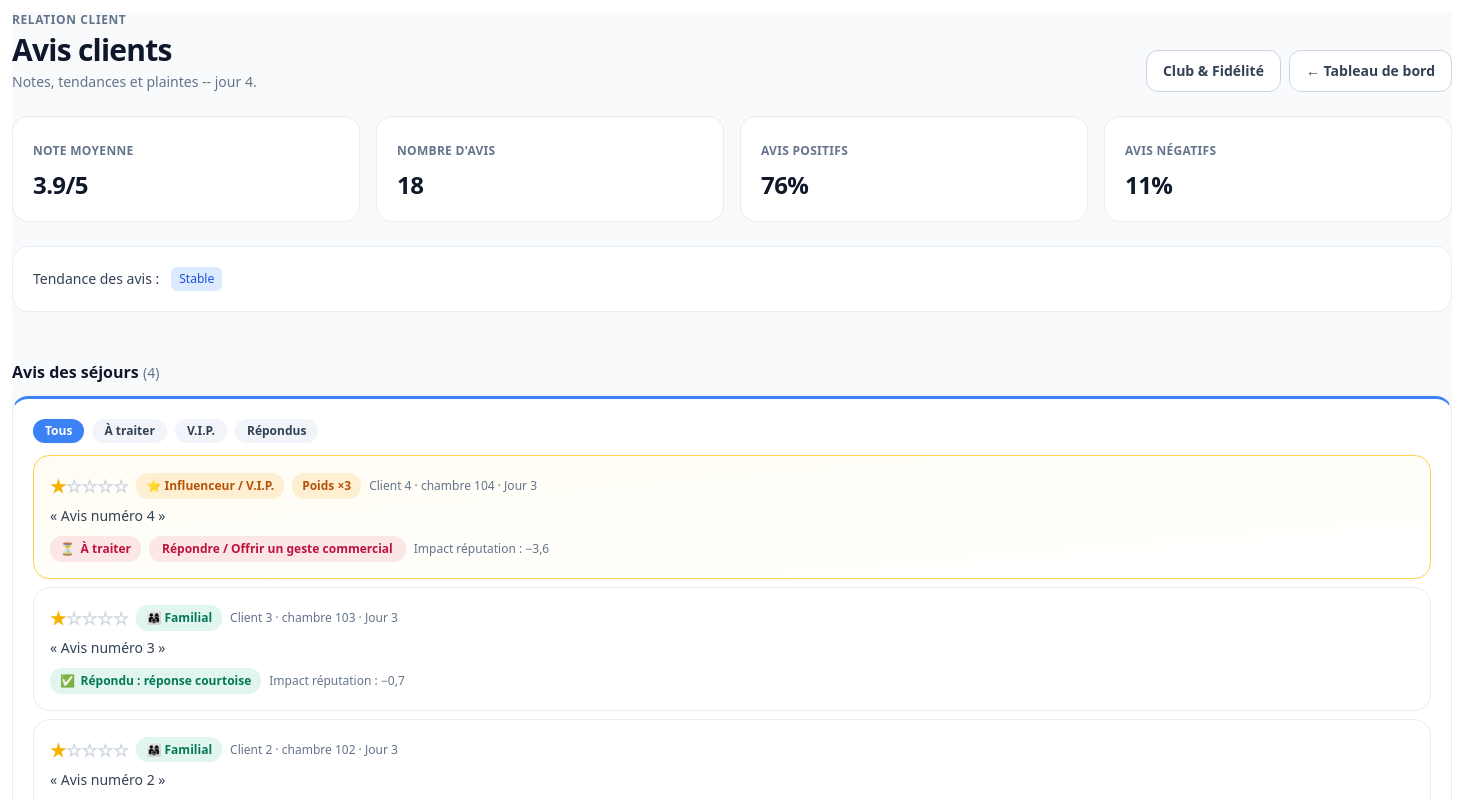
Scenario: Clients / Avis: the reviews of the stays › filters: to do (bad and unanswered), V.I.P., answered
Click the button "À traiter" at point(130, 431), box [92, 419, 167, 443]
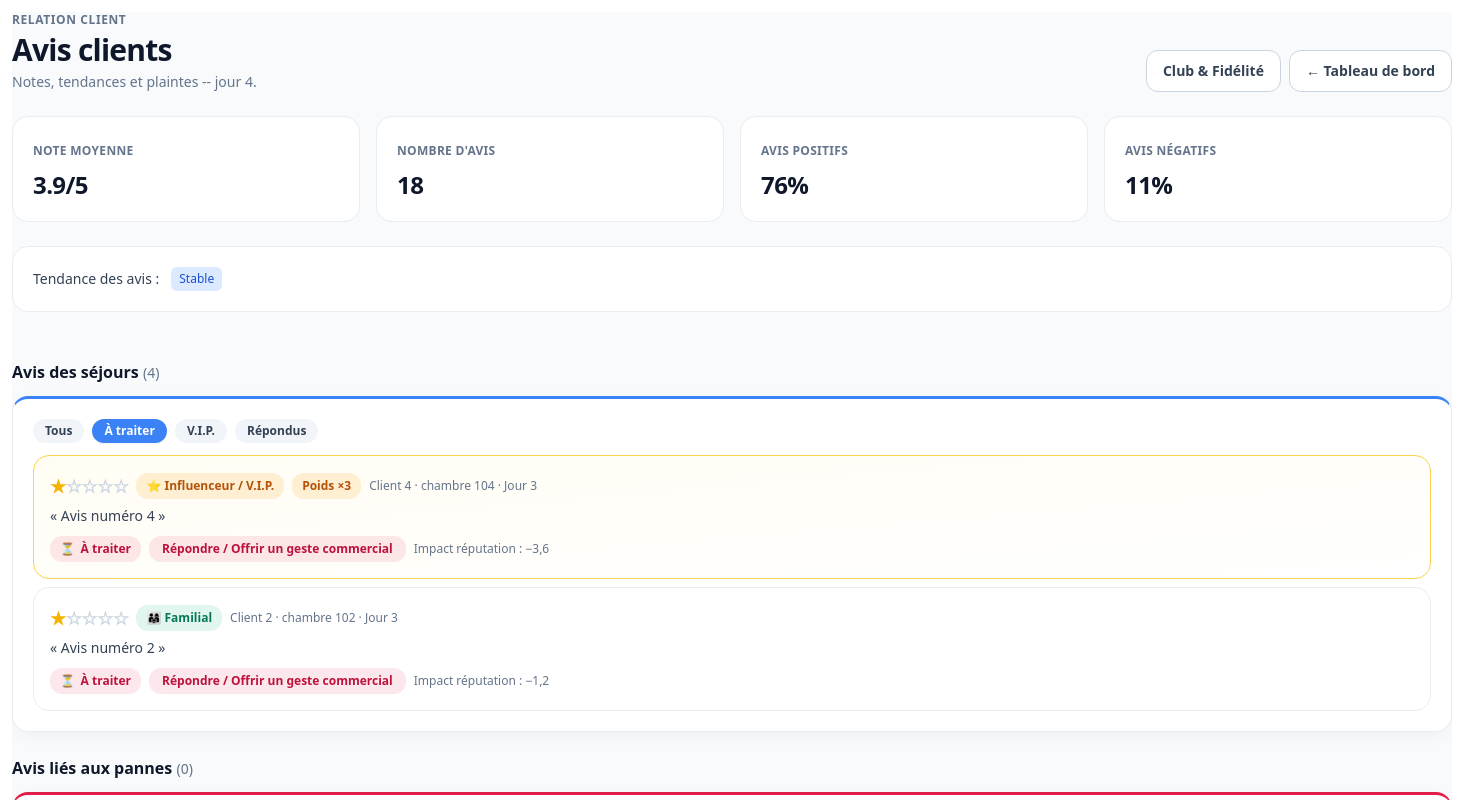
Expected: the number of list items with test id "stay-review" is 2, [33, 455, 1431, 579]; [33, 587, 1431, 711]
Click the button "V.I.P." at point(201, 431), box [175, 419, 227, 443]
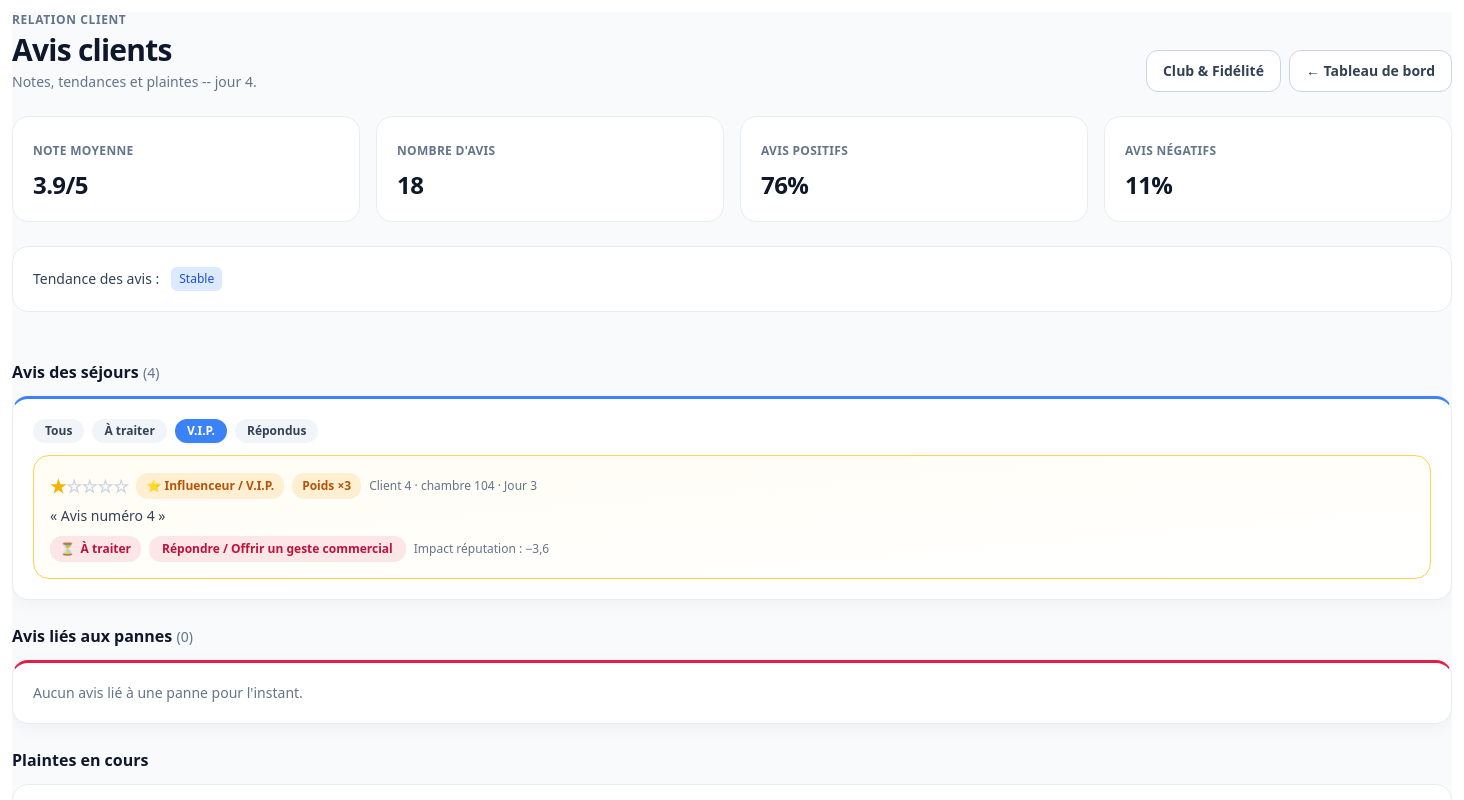
Expected: the number of list items with test id "stay-review" is 1, [33, 455, 1431, 579]
Click the button "Répondus" at point(277, 431), box [235, 419, 318, 443]
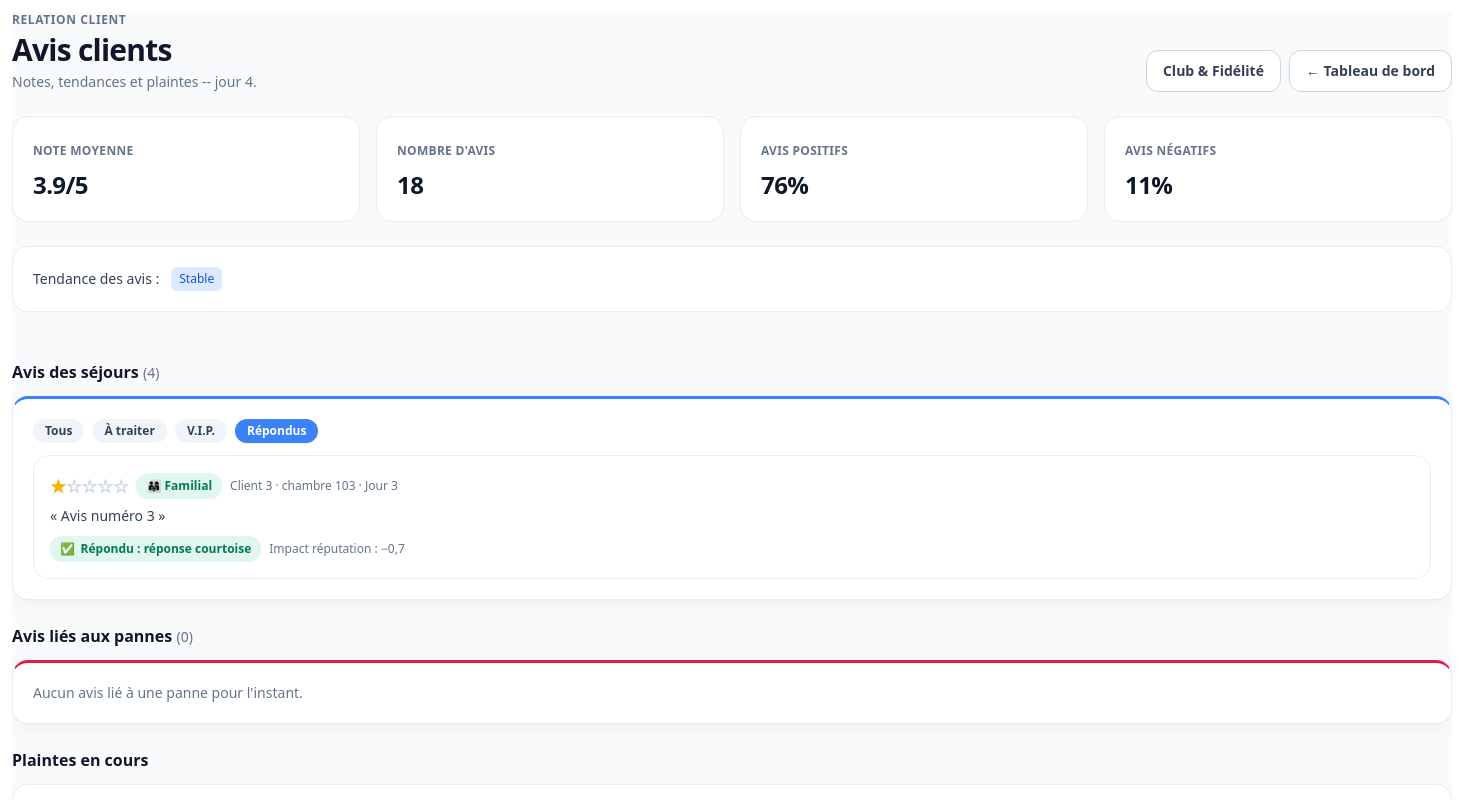
Expected: the number of list items with test id "stay-review" is 1, [33, 455, 1431, 579]
Expected: the list item with test id "stay-review" shows "Avis numéro 3", [61, 506, 155, 525]
Click the button "Tous" at point(59, 431), box [33, 419, 84, 443]
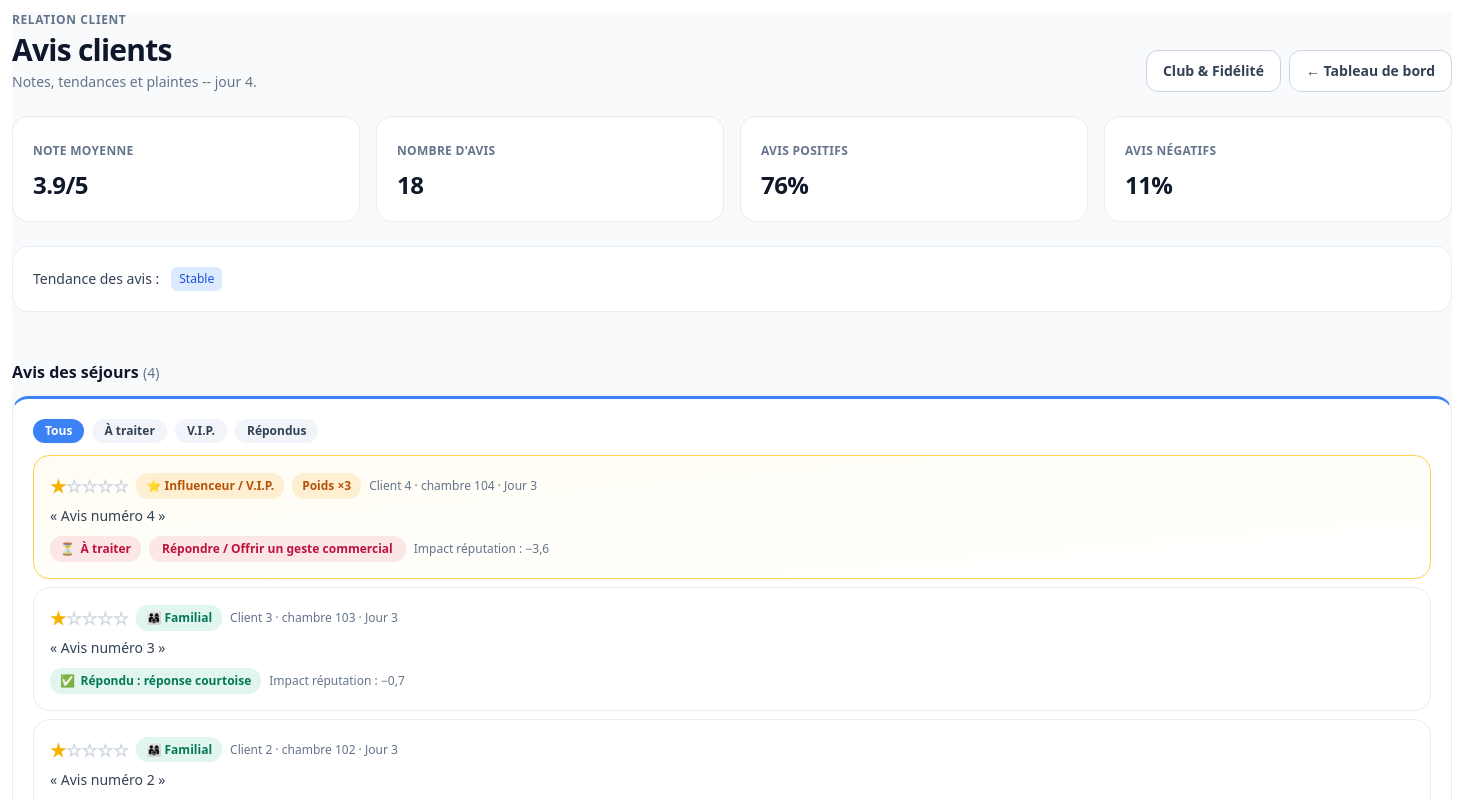
Expected: the number of list items with test id "stay-review" is 4
